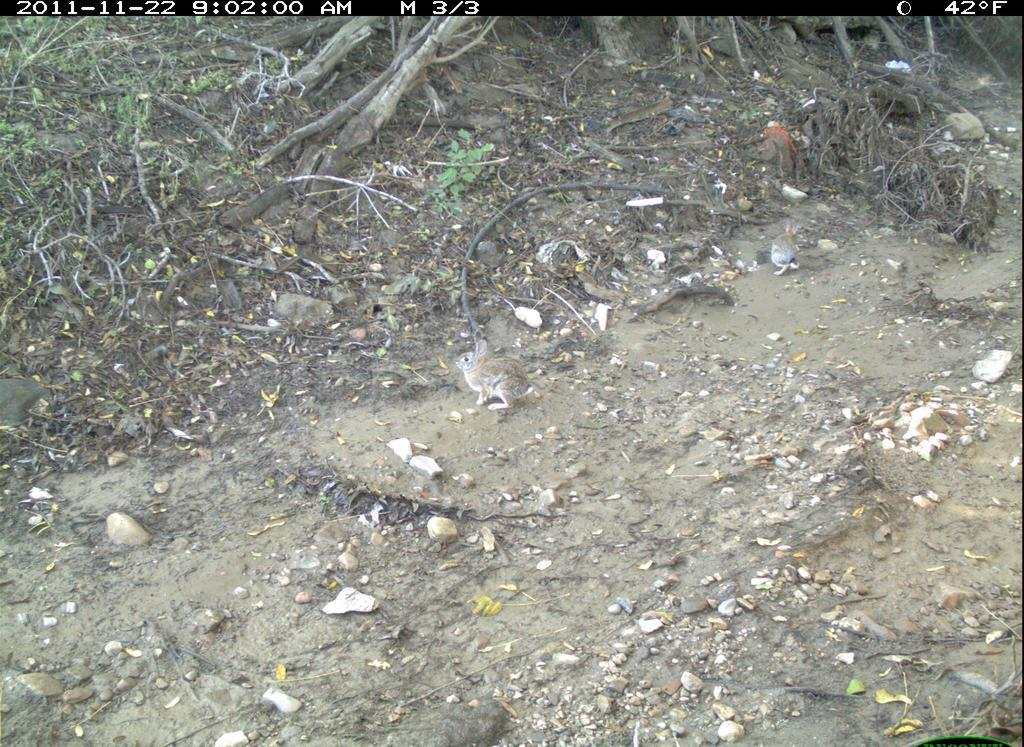rabbit: (446, 328, 545, 422), (766, 214, 811, 282)
